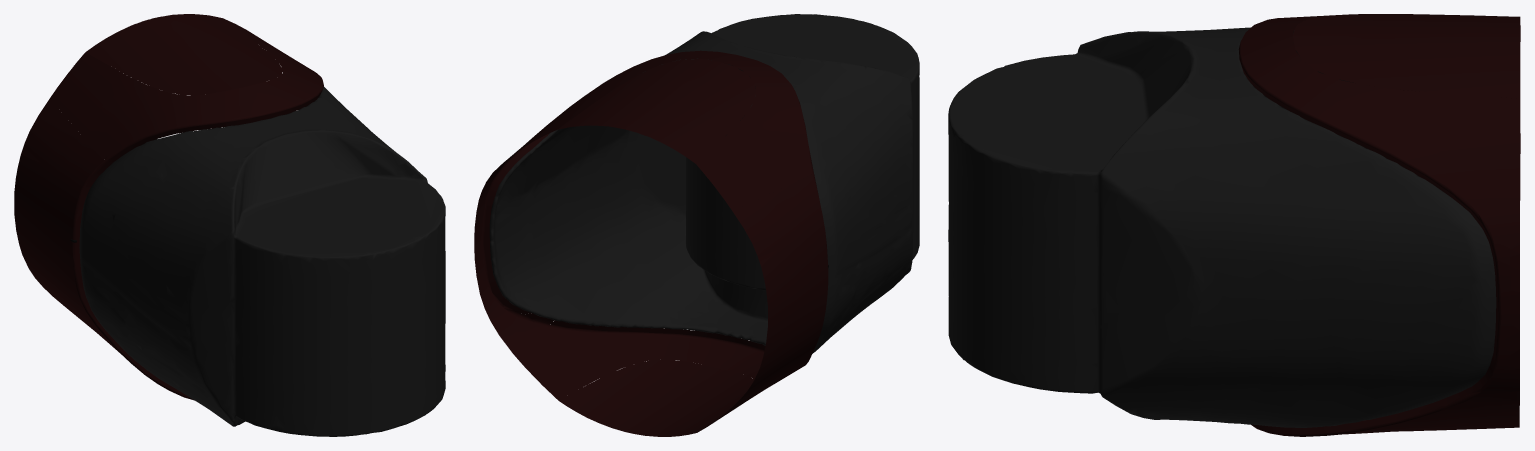
File: sim_gene01_l_forearm.obj
The picture shows the model from 3 angles, left to right: view 1: azimuth 30°, elevation 25°; view 2: azimuth 150°, elevation 25°; view 3: azimuth 270°, elevation 25°; orthographic projection. The views are drawn at different scales.
Visible parts, largest first — view 1: sim_gene01_l_forearm; view 2: sim_gene01_l_forearm; view 3: sim_gene01_l_forearm.
Boxes of the visible parts, <box> form: sim_gene01_l_forearm: <box>14,14,445,436</box>; sim_gene01_l_forearm: <box>474,14,919,436</box>; sim_gene01_l_forearm: <box>948,14,1520,436</box>.
Size of the model in its own units: 121 by 120 by 166.
